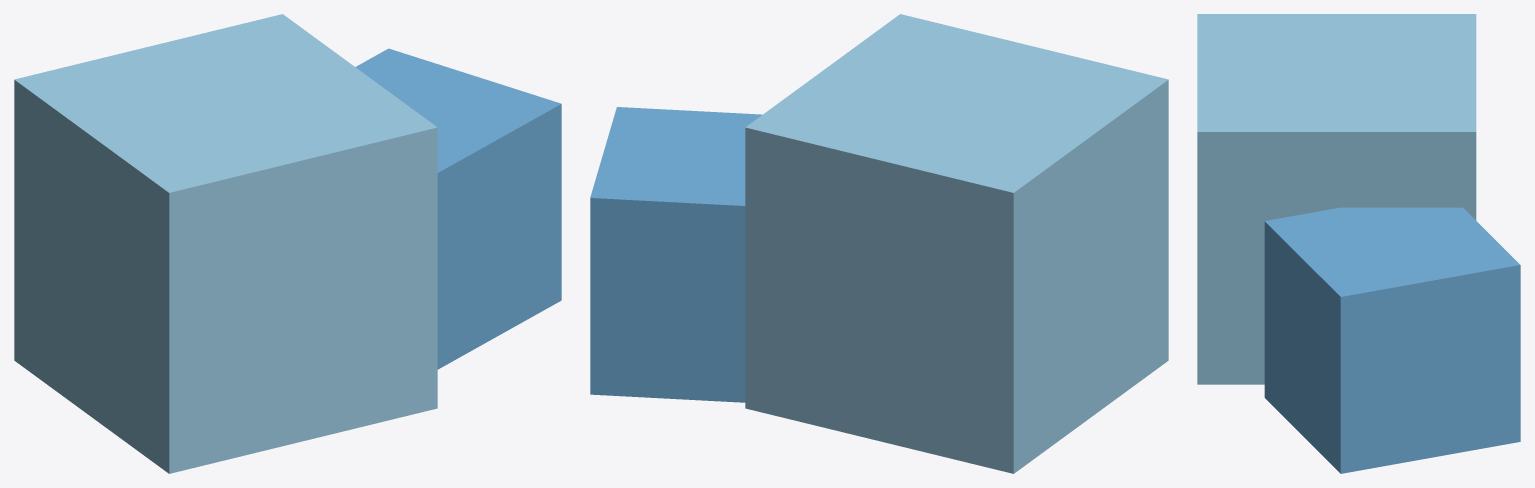
Rendered from ice_block.fbx.
The picture shows the model from 3 angles, left to right: view 1: azimuth 30°, elevation 25°; view 2: azimuth 150°, elevation 25°; view 3: azimuth 270°, elevation 25°; orthographic projection. The views are drawn at different scales.
Parts seen in each view (by area): view 1: ice_block; view 2: ice_block; view 3: ice_block.
Boxes of the visible parts, box(x1,y1,x2,y2) form: ice_block: box(14, 14, 561, 473); ice_block: box(590, 14, 1168, 473); ice_block: box(1197, 14, 1520, 473).
Bounding box in the file's own units: 1.76 × 1 × 1.16.
